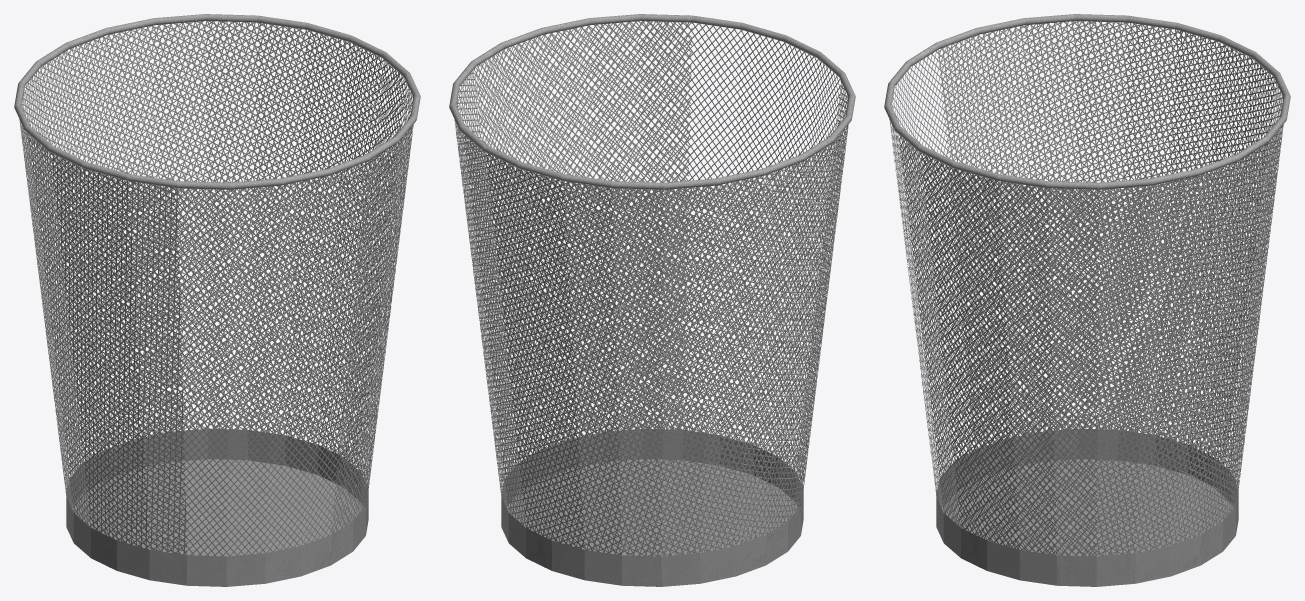
The picture shows the model from 3 angles, left to right: view 1: azimuth 30°, elevation 25°; view 2: azimuth 150°, elevation 25°; view 3: azimuth 270°, elevation 25°; orthographic projection.
Parts seen in each view (by area): view 1: mesh1_mesh1-geometry, mesh2_mesh2-geometry; view 2: mesh1_mesh1-geometry, mesh2_mesh2-geometry; view 3: mesh1_mesh1-geometry, mesh2_mesh2-geometry.
Part boxes in pixels (x1,y1,x2,y2): mesh1_mesh1-geometry: [19, 21, 413, 586]; mesh2_mesh2-geometry: [14, 14, 420, 189]; mesh1_mesh1-geometry: [454, 21, 848, 586]; mesh2_mesh2-geometry: [449, 14, 855, 189]; mesh1_mesh1-geometry: [889, 21, 1283, 586]; mesh2_mesh2-geometry: [884, 14, 1290, 189].
Size of the model in its own units: 0.5482 by 0.6316 by 0.5482.
Materials: 4 (1 with a texture image).
